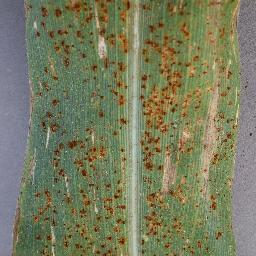Gray_Leaf_Spot: (4, 0, 246, 255)
